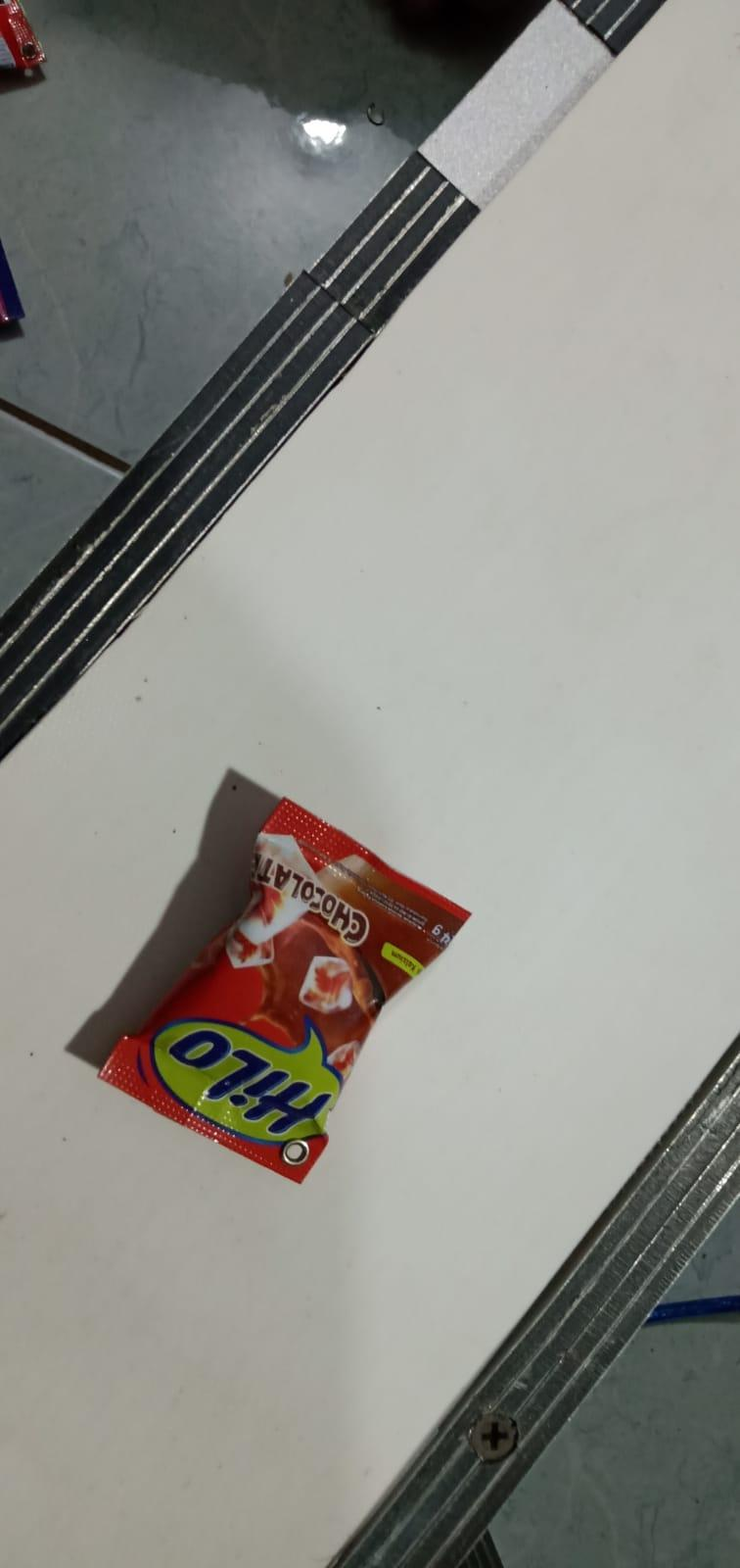Plastik: (97, 797, 470, 1186)
